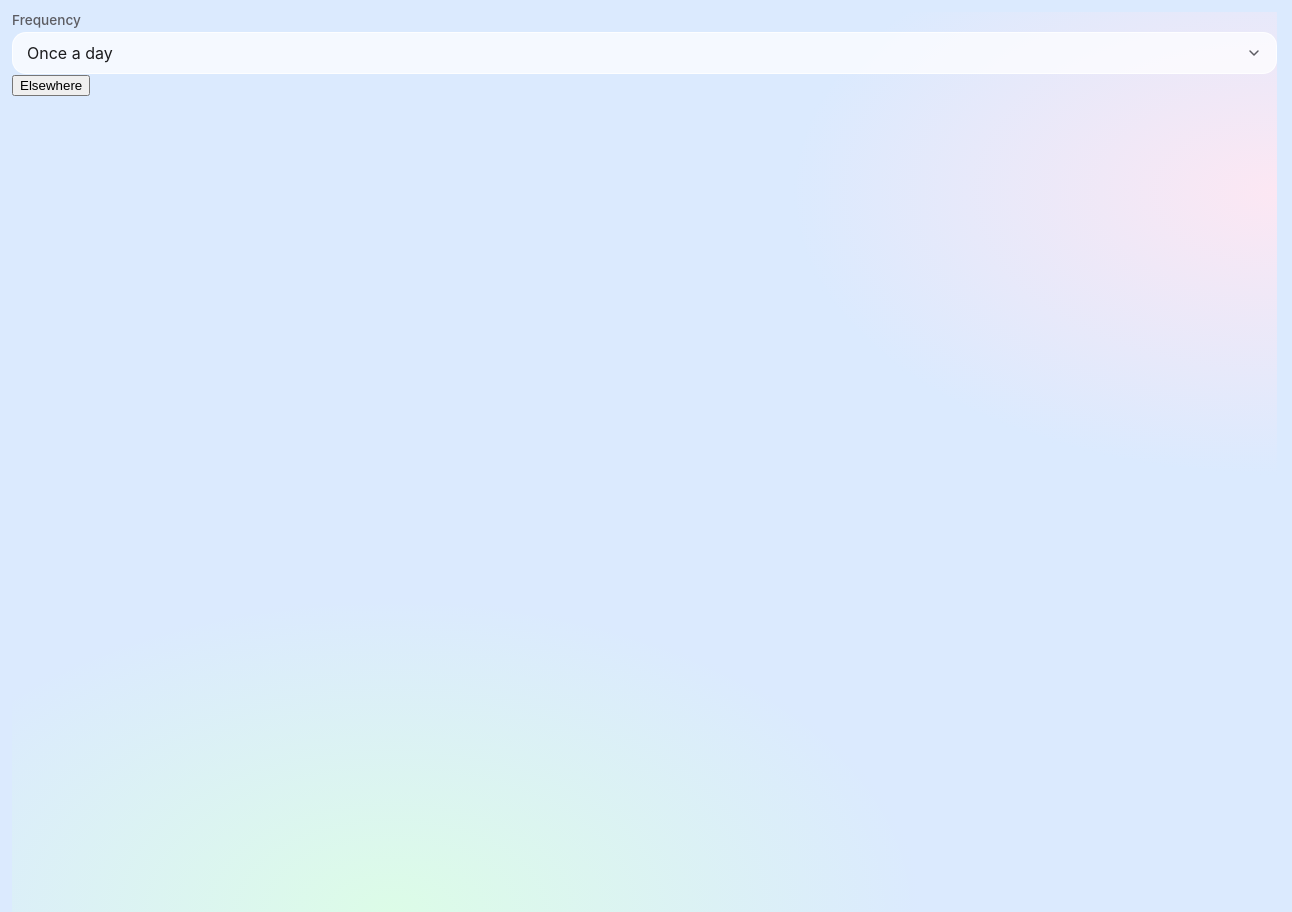
Test: Select › shows the current value and picks an option by tapping
Click the dropdown named "Frequency". click: [644, 53]
box: [12,32,1277,74]
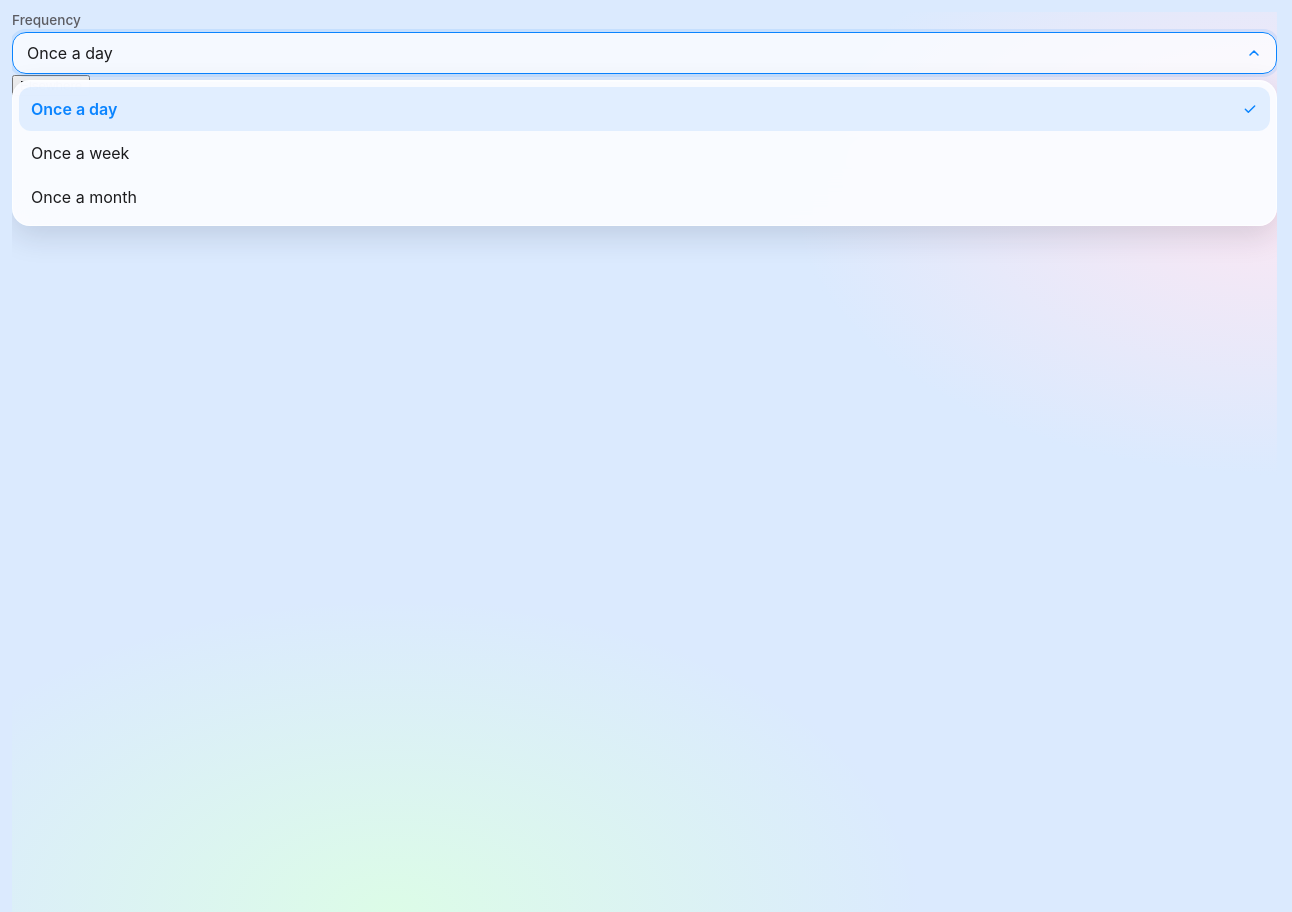
Now the dropdown named "Frequency" is expanded, box [12,32,1277,74]
Click the option "Once a week". click: [80, 153]
box: [31,143,129,163]
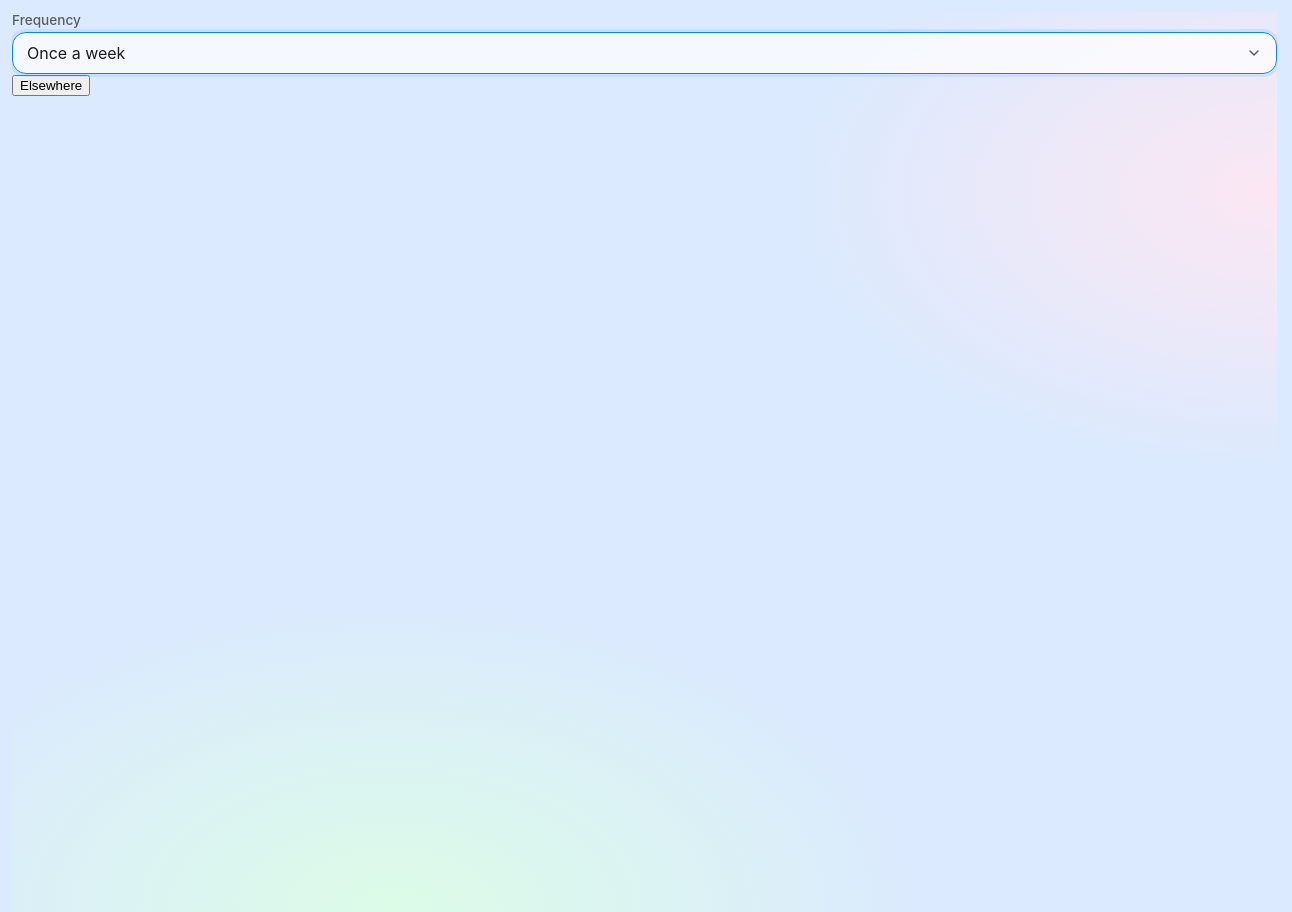
Now the dropdown named "Frequency" reads "Once a week", box [12,32,1277,74]
Now the list is gone
